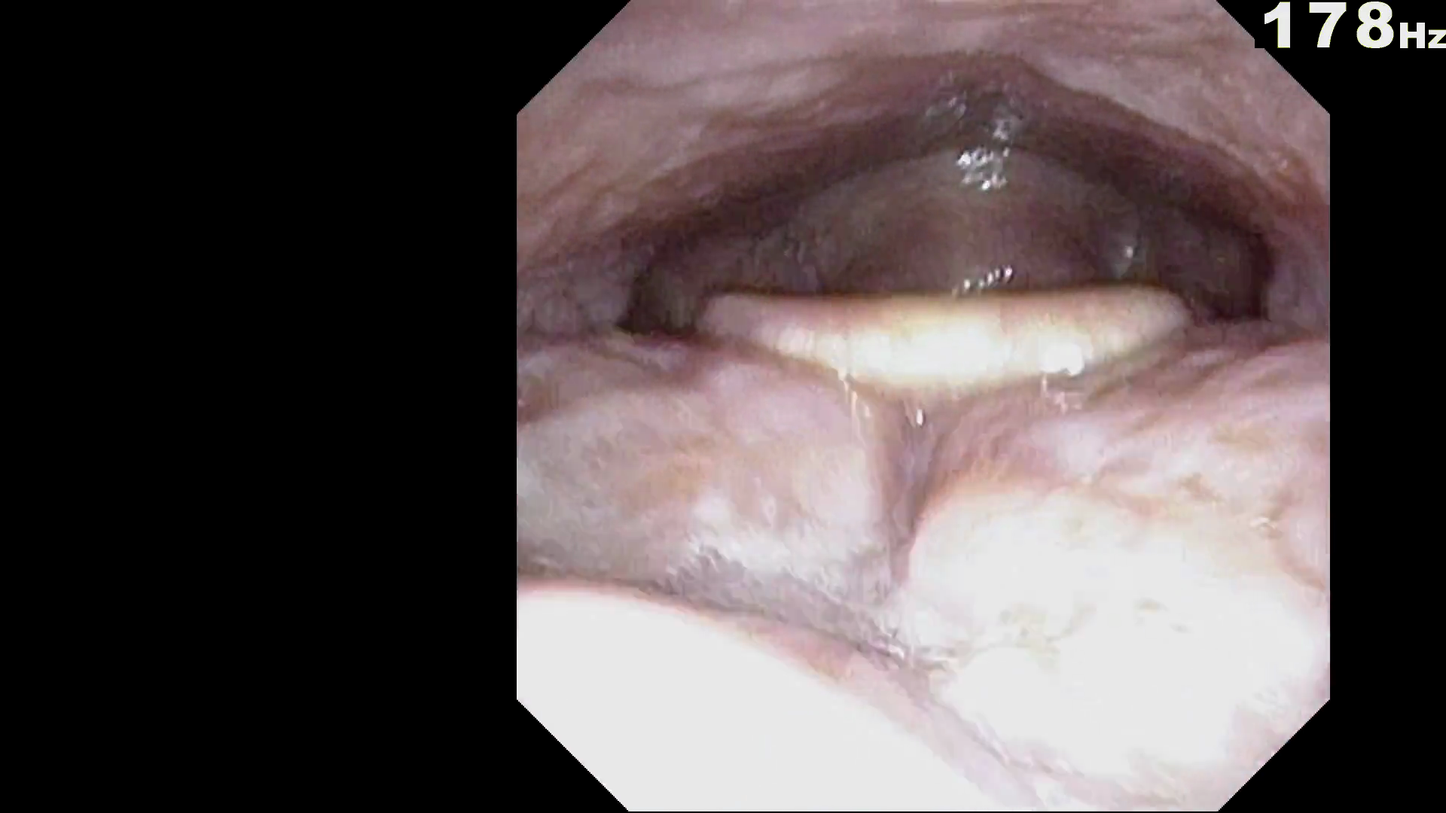epiglottis: (663, 260, 1222, 455)
